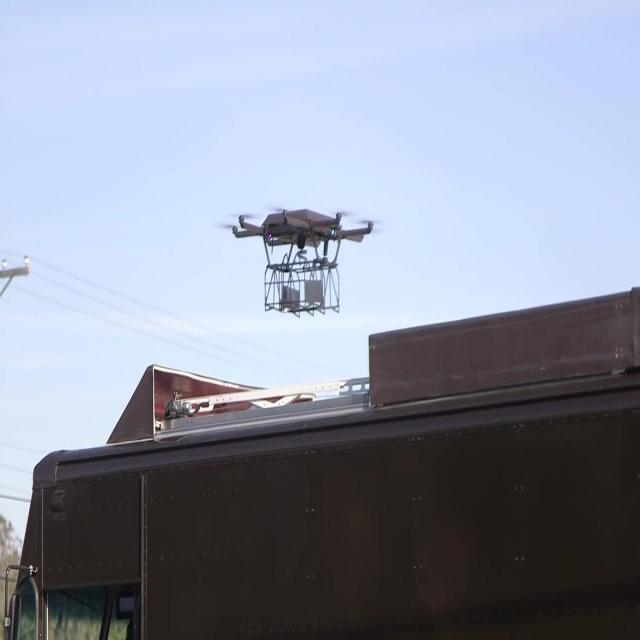UAV: (220, 209, 383, 317)
